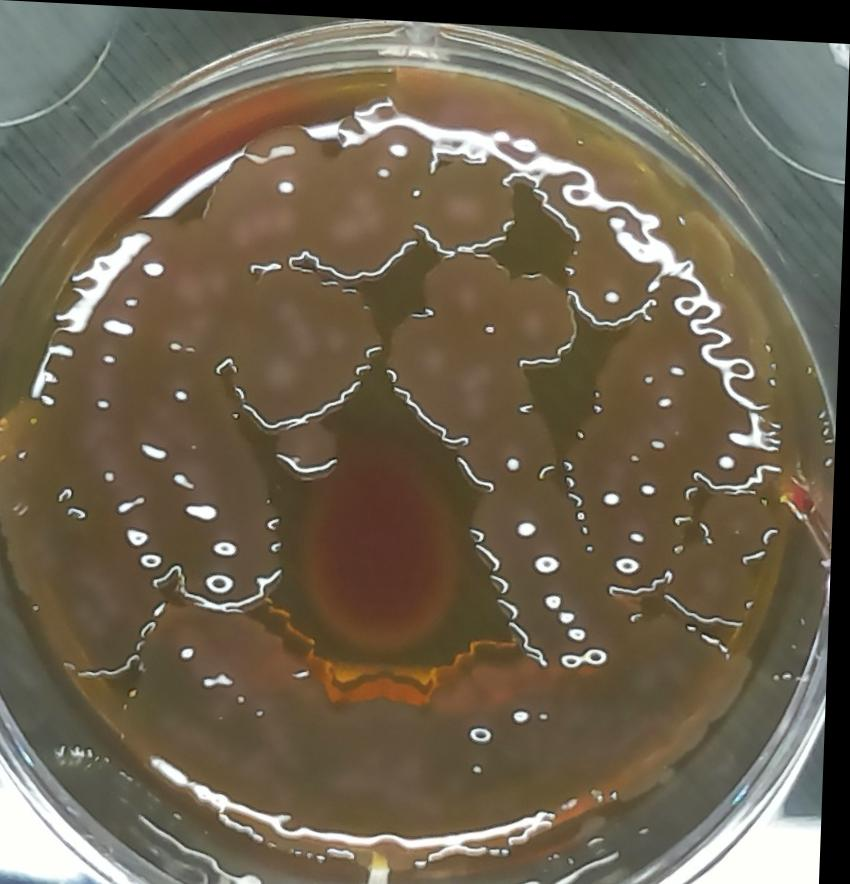vproteolyticus: (461, 476, 637, 670), (381, 305, 558, 480), (228, 259, 395, 432), (180, 429, 299, 607), (198, 115, 320, 262), (307, 157, 429, 277), (424, 150, 528, 256), (563, 232, 665, 331), (499, 263, 592, 367), (699, 477, 794, 558), (276, 412, 355, 479)
